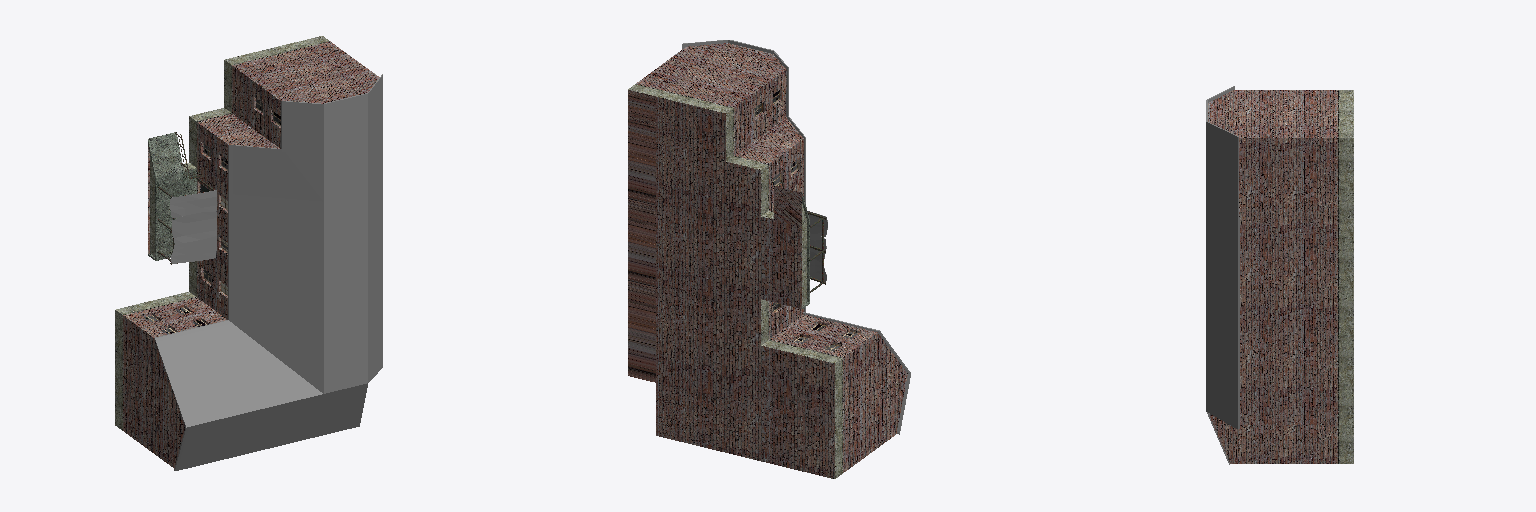
The picture shows the model from 3 angles: view 1: azimuth 30°, elevation 25°; view 2: azimuth 150°, elevation 25°; view 3: azimuth 270°, elevation 25°; orthographic projection.
Visible parts, largest first — view 1: MDL_Box012; view 2: MDL_Box012; view 3: MDL_Box012.
Boxes of the visible parts, <box> form: MDL_Box012: <box>115,36,382,470</box>; MDL_Box012: <box>628,40,910,478</box>; MDL_Box012: <box>1206,86,1353,464</box>.
Size of the model in its own units: 28.7 by 44.06 by 17.21.
8 materials, 6 textured.